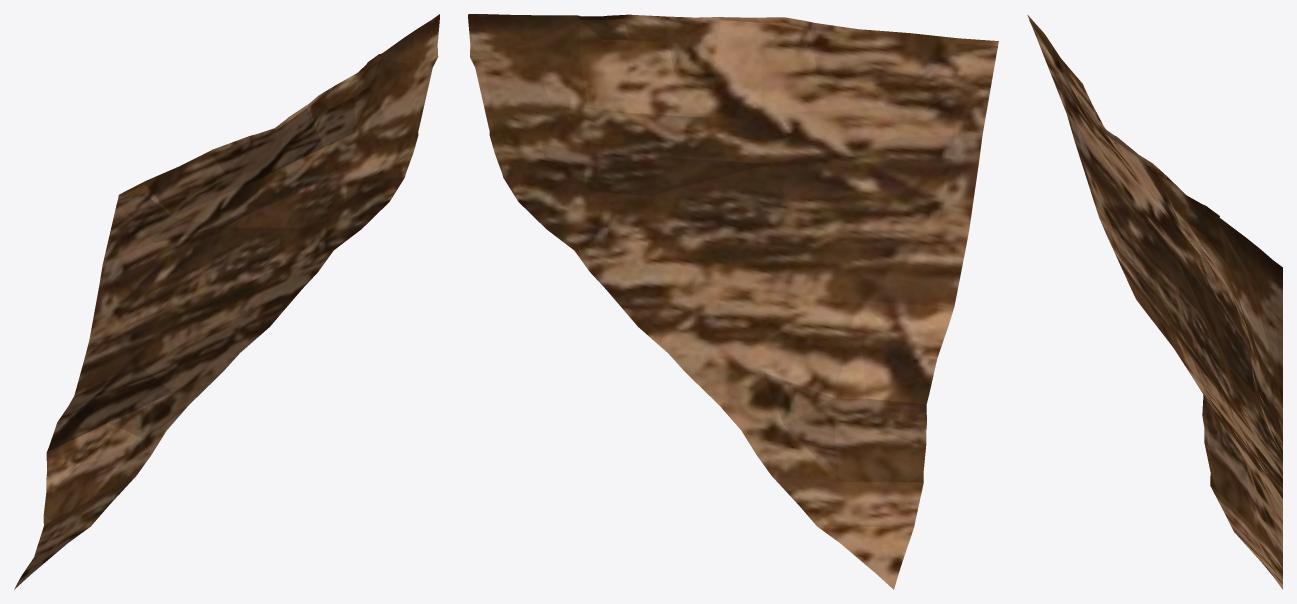
3 views of the same model, side by side, from view 1: azimuth 30°, elevation 25°; view 2: azimuth 150°, elevation 25°; view 3: azimuth 270°, elevation 25° (orthographic). The views are drawn at different scales.
Size of the model in its own units: 0.3281 by 0.3475 by 0.14.
1 material, 1 textured.
